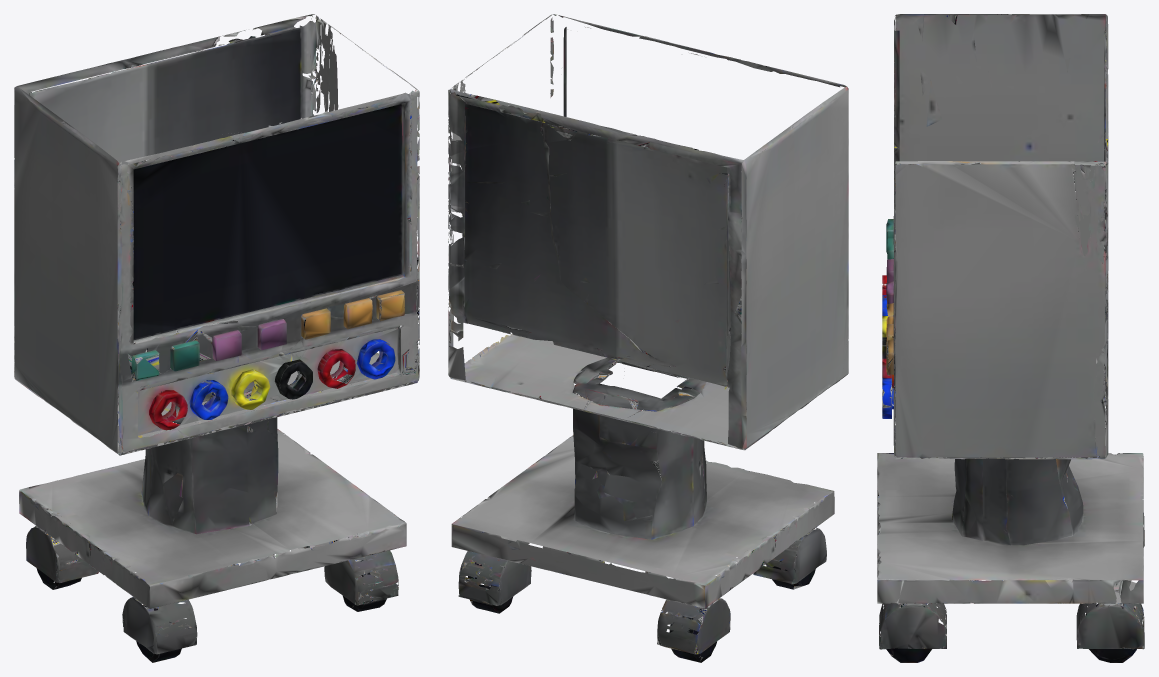
File: ecg-cart.glb
3 renders of one model, left to right at view 1: azimuth 30°, elevation 25°; view 2: azimuth 150°, elevation 25°; view 3: azimuth 270°, elevation 25°, orthographic. The views are drawn at different scales.
Parts seen in each view (by area): view 1: world; view 2: world; view 3: world.
Part boxes in pixels (x1,y1,x2,y2): world: (14, 14, 419, 662); world: (448, 14, 848, 662); world: (877, 14, 1144, 662).
Size of the model in its own units: 0.6178 by 1 by 0.4666.
Materials: 1 (1 with a texture image).
